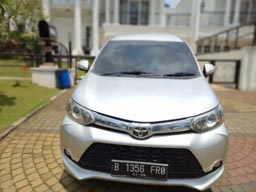plat: (113, 160, 167, 173)
